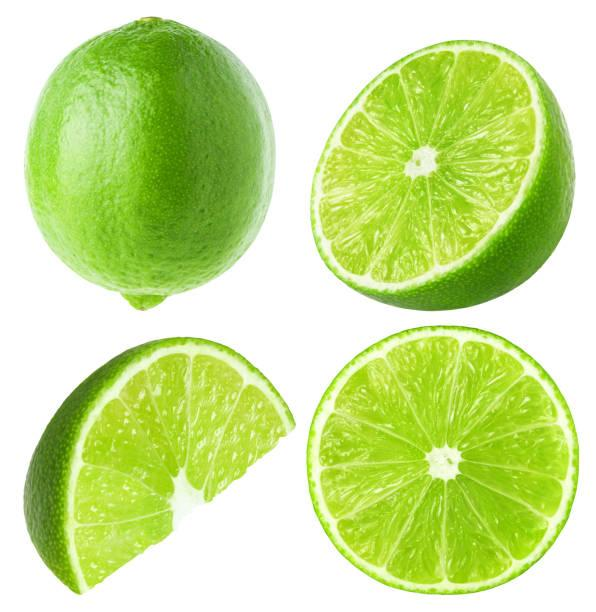lime: (18, 11, 284, 323), (302, 30, 585, 319), (307, 322, 588, 596), (23, 331, 302, 591)
